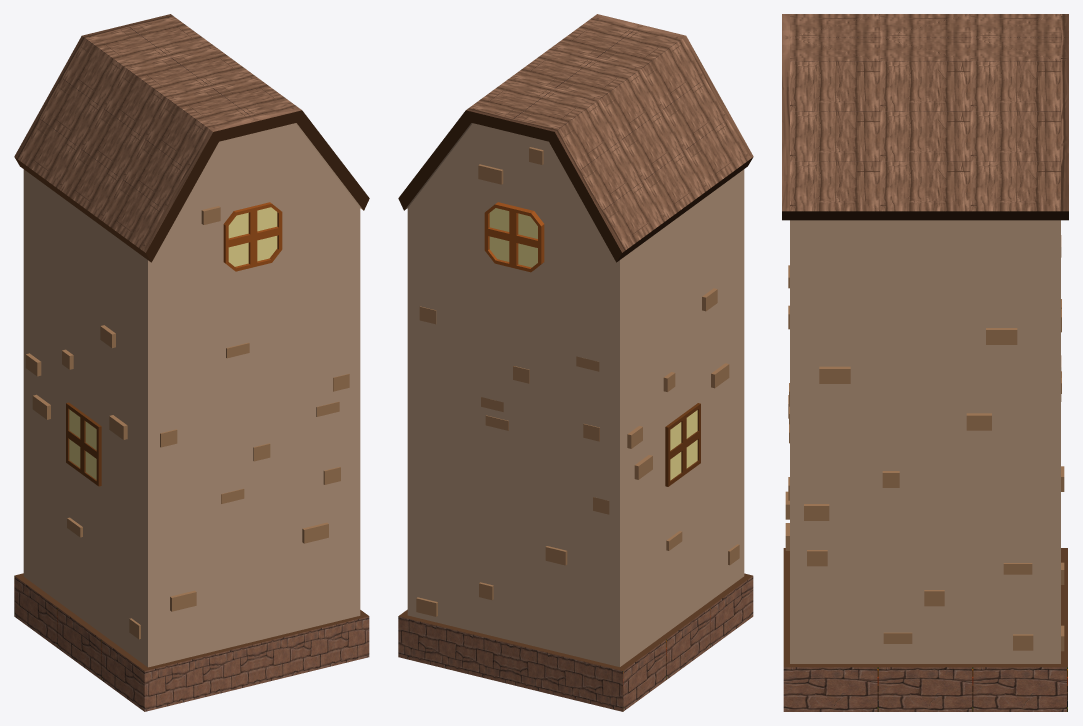
The model's file is HouseTall.fbx.
3 renders of one model, left to right at view 1: azimuth 30°, elevation 25°; view 2: azimuth 150°, elevation 25°; view 3: azimuth 270°, elevation 25°, orthographic. The views are drawn at different scales.
Visible parts, largest first — view 1: House.001; view 2: House.001; view 3: House.001.
Part boxes in pixels (bbox=[...]): House.001: bbox=[14, 14, 369, 711]; House.001: bbox=[398, 14, 753, 711]; House.001: bbox=[782, 14, 1068, 711].
Size of the model in its own units: 113 by 272 by 115.
